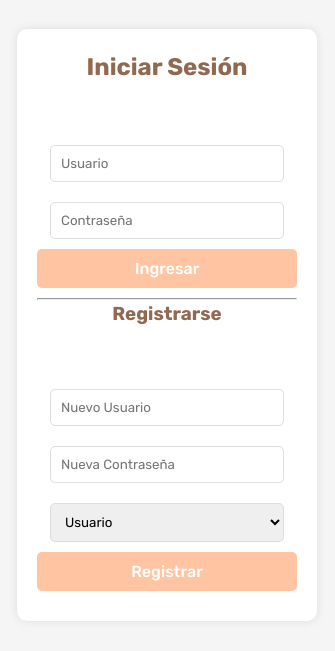
Scenario: Componente Login › no permite registrar usuarios duplicados
In the field with placeholder "Nuevo Usuario": (167, 407) [50,388,284,426], type "juan"
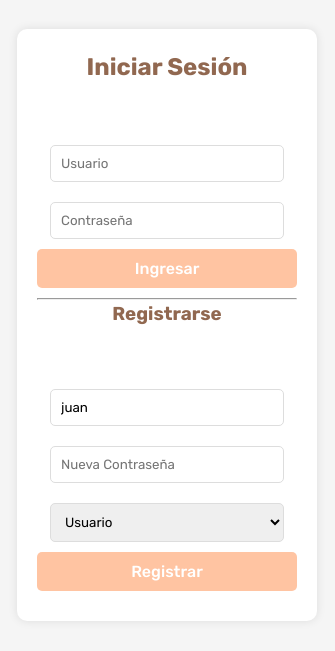
In the password field with placeholder "Nueva Contraseña": (167, 464) [50,446,284,482], type "abcd"
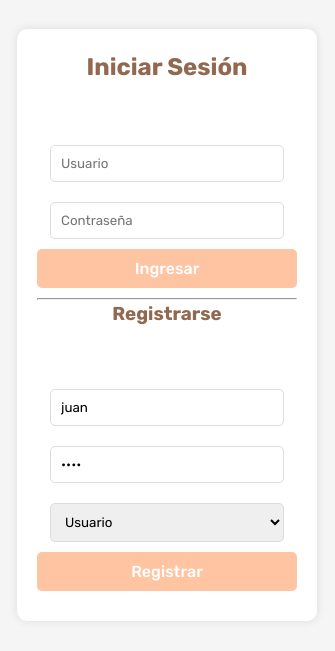
Click the button "Registrar": (167, 571) [37,552,297,590]
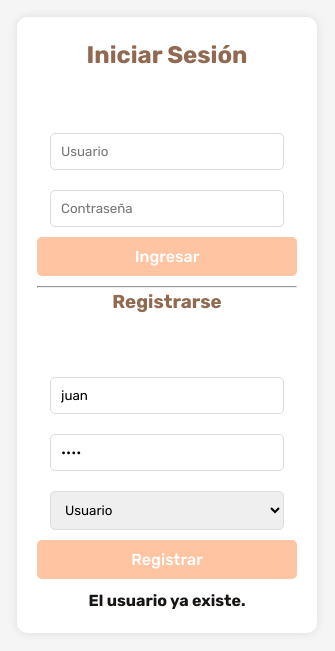
Expected: the text "El usuario ya existe." is shown, [88,590,246,610]
